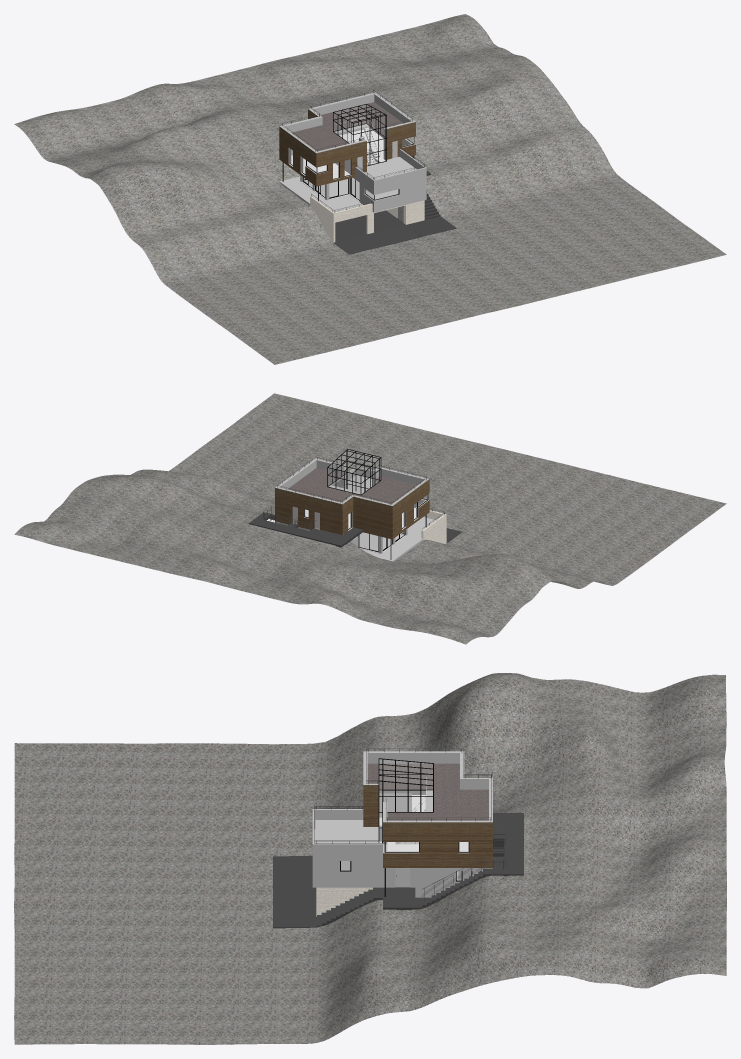
Rendered from exterior.glb.
3 views of the same model, one above another, from view 1: azimuth 30°, elevation 25°; view 2: azimuth 150°, elevation 25°; view 3: azimuth 270°, elevation 25° (orthographic). The views are drawn at different scales.
Parts seen in each view (by area): view 1: Sol-environnement.004, batiment.006, plancher-ss-sol.001, cube-cuisine.003, plancher.010, batiment, plancher.002, plancher.003, Cube.008; view 2: Sol-environnement.004, batiment.006, plancher.010, plancher.002, palier-ext.003, batiment, Window.002; view 3: Sol-environnement.004, batiment.006, plancher.010, cube-cuisine.003, plancher-ss-sol.001, palier-ext.003, batiment.004, Cube.008, palier-ext, escalier.001, batiment, plancher.003 (+1 smaller).
Boxes of the visible parts, left/top/right/bottom form: Sol-environnement.004: left=14, top=14, right=726, bottom=364; batiment.006: left=279, top=92, right=415, bottom=186; plancher-ss-sol.001: left=334, top=210, right=456, bottom=254; cube-cuisine.003: left=348, top=149, right=426, bottom=212; plancher.010: left=292, top=102, right=402, bottom=151; batiment: left=310, top=196, right=424, bottom=242; plancher.002: left=279, top=157, right=398, bottom=212; plancher.003: left=289, top=129, right=402, bottom=179; Cube.008: left=364, top=157, right=416, bottom=179; Sol-environnement.004: left=14, top=393, right=726, bottom=644; batiment.006: left=275, top=458, right=429, bottom=539; plancher.010: left=287, top=468, right=416, bottom=504; plancher.002: left=359, top=517, right=435, bottom=561; palier-ext.003: left=248, top=515, right=362, bottom=547; batiment: left=421, top=510, right=446, bottom=543; Window.002: left=328, top=449, right=380, bottom=475; Sol-environnement.004: left=14, top=673, right=726, bottom=1044; batiment.006: left=363, top=751, right=492, bottom=867; plancher.010: left=367, top=763, right=488, bottom=820; cube-cuisine.003: left=312, top=809, right=382, bottom=887; plancher-ss-sol.001: left=273, top=856, right=316, bottom=928; palier-ext.003: left=493, top=813, right=523, bottom=875; batiment.004: left=383, top=868, right=492, bottom=897; Cube.008: left=315, top=820, right=378, bottom=842; palier-ext: left=383, top=842, right=504, bottom=909; escalier.001: left=317, top=887, right=383, bottom=927; batiment: left=316, top=887, right=372, bottom=916; plancher.003: left=379, top=795, right=468, bottom=851.
Size of the model in its own units: 57.97 by 11.46 by 57.97.
Materials: 17 (4 with a texture image).
